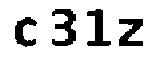1: (84, 5, 112, 49)
3: (50, 6, 78, 48)
c: (14, 17, 39, 49)
z: (117, 16, 144, 48)
